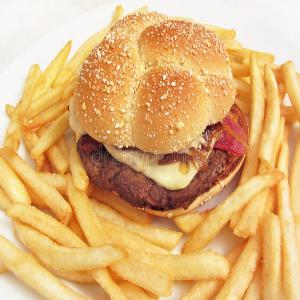cheeseburger_475cal: (82, 4, 249, 203)
fries_350cal: (88, 210, 298, 300), (8, 54, 79, 292)
